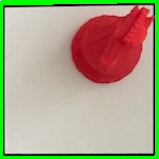Red Knight: (69, 5, 155, 85)
